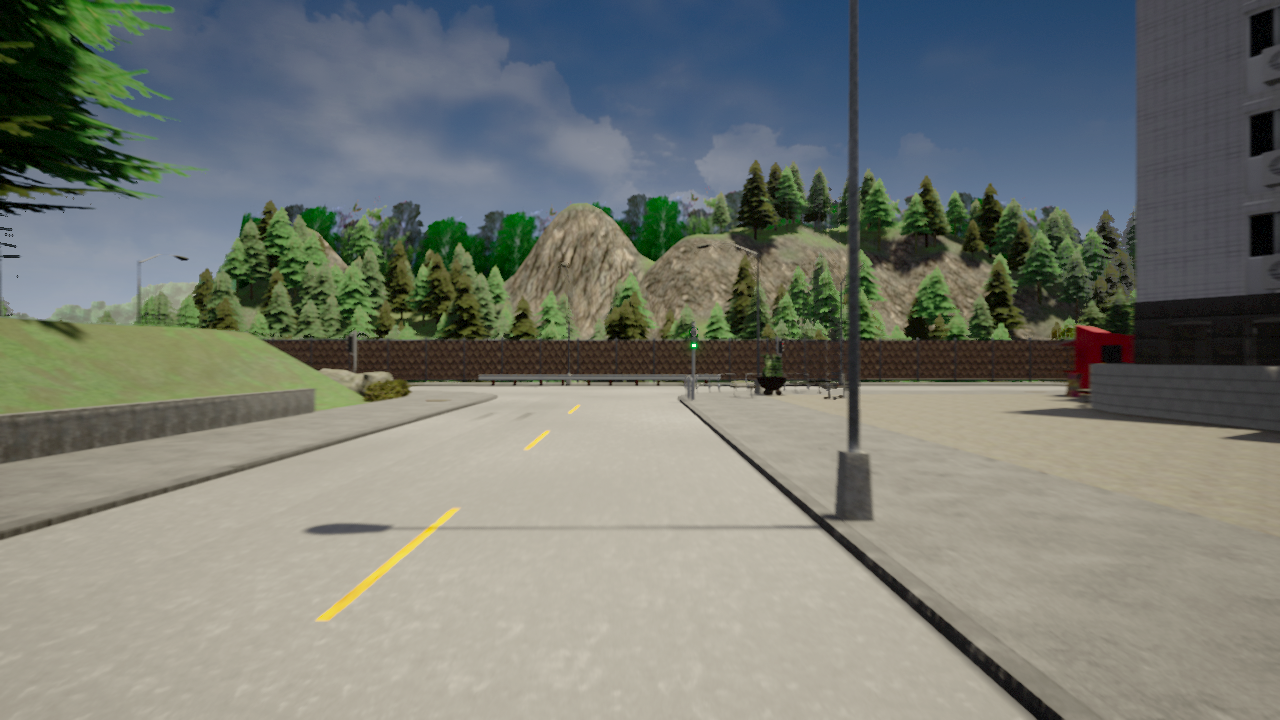green: (689, 327, 698, 349)
